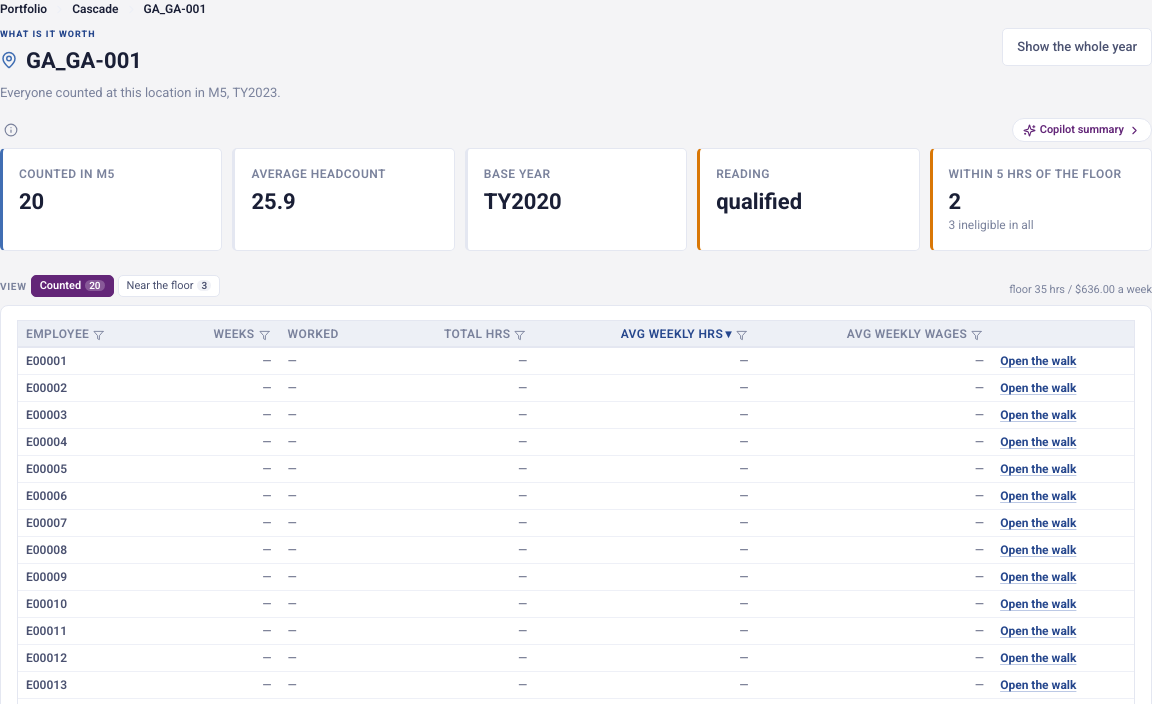
"how many more hours a week would Sally need to work?" › states the additional hours per employee
Click the tab "Near the floor3".
click(169, 286)  # box top-left (118, 275), bottom-right (220, 297)
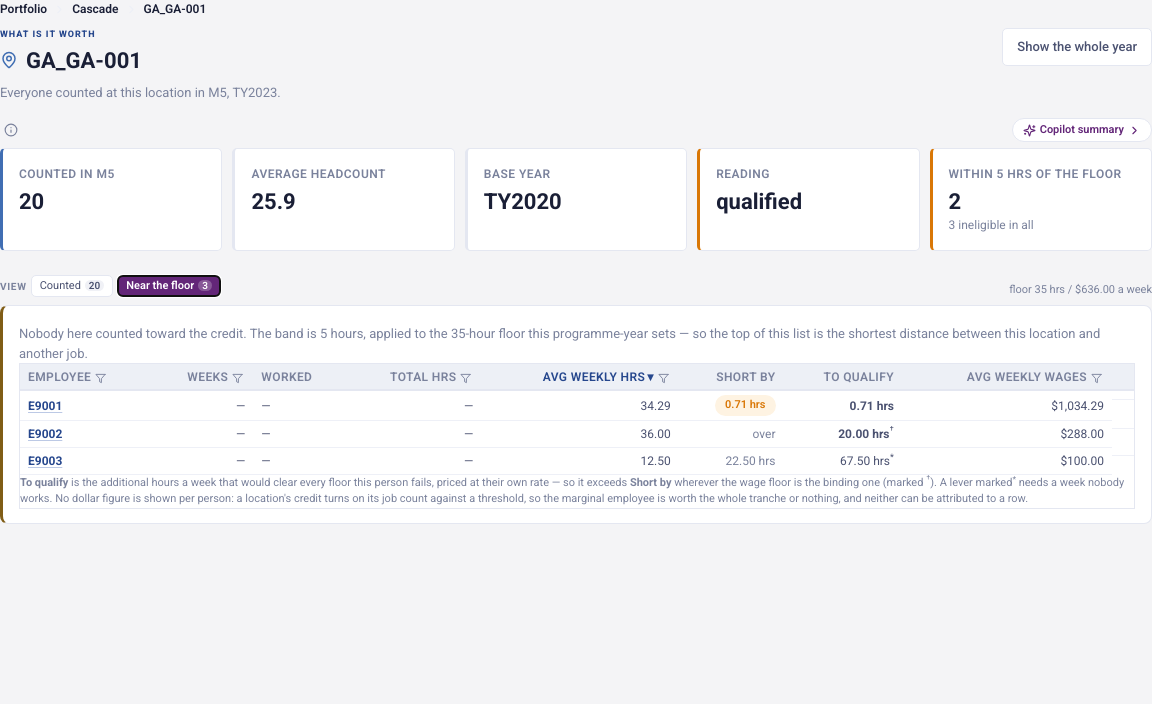
Expected: the 2nd cell "0.71 hrs" is shown, top-left (784, 391), bottom-right (902, 420)
